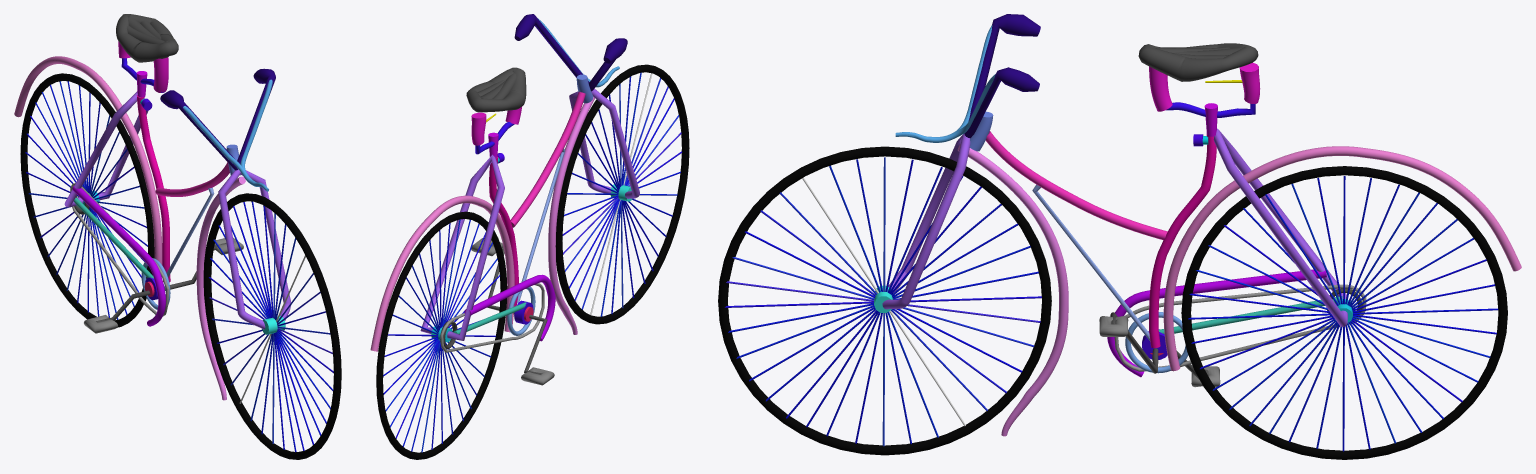
The model's file is bisiklet son hali.glb.
The picture shows the model from 3 angles, left to right: view 1: azimuth 30°, elevation 25°; view 2: azimuth 150°, elevation 25°; view 3: azimuth 270°, elevation 25°; orthographic projection. The views are drawn at different scales.
Parts seen in each view (by area): view 1: BézierCircle, BézierCircle.002, BézierCurve.077, BézierCurve.076, BézierCurve.085, BézierCurve.078, BézierCurve.090, BézierCurve.079, BézierCurve.082, BézierCurve.084, BézierCurve.098, BézierCurve.080 (+20 smaller); view 2: BézierCircle, BézierCircle.002, BézierCurve.077, BézierCurve.076, BézierCurve.085, BézierCurve.078, BézierCurve.082, BézierCurve.080, BézierCurve.090, BézierCurve.079, BézierCurve.098, BézierCurve.086 (+22 smaller); view 3: BézierCircle, BézierCircle.002, BézierCurve.077, BézierCurve.076, BézierCurve.078, BézierCurve.085, BézierCurve.082, BézierCurve.079, BézierCurve.080, BézierCurve.090, BézierCurve.098, BézierCurve.086 (+4 smaller).
Boxes of the visible parts, x1,y1,x2,y2 form: BézierCircle: [203, 193, 341, 459]; BézierCircle.002: [20, 73, 154, 327]; BézierCurve.077: [64, 91, 291, 329]; BézierCurve.076: [14, 56, 162, 264]; BézierCurve.085: [116, 14, 178, 62]; BézierCurve.078: [196, 176, 245, 400]; BézierCurve.090: [72, 185, 165, 326]; BézierCurve.079: [136, 95, 170, 282]; BézierCurve.082: [160, 68, 275, 170]; BézierCurve.084: [183, 79, 272, 191]; BézierCurve.098: [70, 183, 169, 316]; BézierCurve.080: [155, 162, 229, 196]; BézierCircle: [555, 64, 689, 324]; BézierCircle.002: [376, 211, 507, 459]; BézierCurve.077: [420, 88, 639, 340]; BézierCurve.076: [370, 195, 514, 351]; BézierCurve.085: [466, 67, 526, 112]; BézierCurve.078: [548, 97, 595, 334]; BézierCurve.082: [514, 14, 627, 91]; BézierCurve.080: [510, 92, 585, 227]; BézierCurve.090: [464, 274, 555, 341]; BézierCurve.079: [489, 156, 518, 306]; BézierCurve.098: [440, 283, 544, 352]; BézierCurve.086: [471, 106, 522, 145]; BézierCircle: [718, 146, 1051, 455]; BézierCircle.002: [1181, 166, 1507, 459]; BézierCurve.077: [882, 128, 1347, 326]; BézierCurve.076: [1163, 146, 1521, 371]; BézierCurve.078: [957, 144, 1068, 436]; BézierCurve.085: [1138, 43, 1258, 81]; BézierCurve.082: [964, 14, 1040, 138]; BézierCurve.079: [1149, 134, 1216, 348]; BézierCurve.080: [985, 131, 1167, 240]; BézierCurve.090: [1107, 269, 1326, 377]; BézierCurve.098: [1114, 284, 1366, 371]; BézierCurve.086: [1149, 62, 1260, 111].
Size of the model in its own units: 0.3316 by 0.9524 by 1.66.
